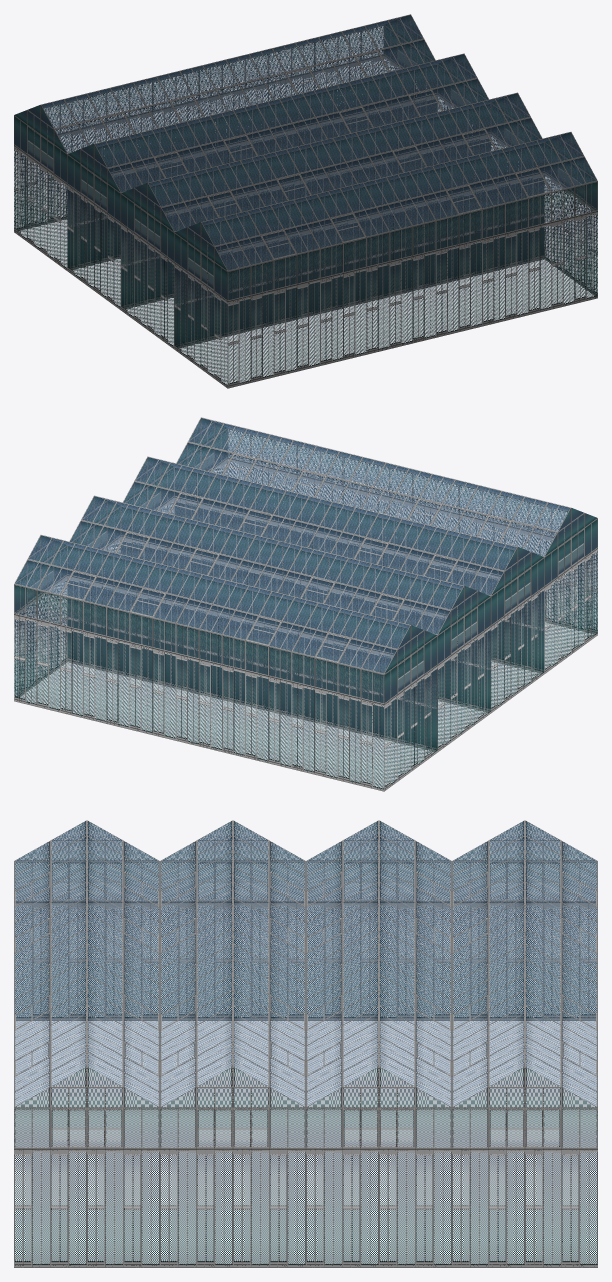
The model's file is kas_mod1_3a.fbx.
3 renders of one model, top to bottom at view 1: azimuth 30°, elevation 25°; view 2: azimuth 150°, elevation 25°; view 3: azimuth 270°, elevation 25°, orthographic. The views are drawn at different scales.
Visible parts, largest first — view 1: kas_mod1_3a; view 2: kas_mod1_3a; view 3: kas_mod1_3a.
Boxes of the visible parts, x1=… form: kas_mod1_3a: x1=14, y1=14, x2=597, y2=388; kas_mod1_3a: x1=14, y1=417, x2=597, y2=791; kas_mod1_3a: x1=14, y1=820, x2=597, y2=1267.
Bounding box in the file's own units: 4000 × 1519 × 4000.
